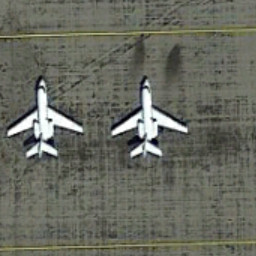Airplane: (104, 68, 193, 171), (4, 72, 89, 168)
